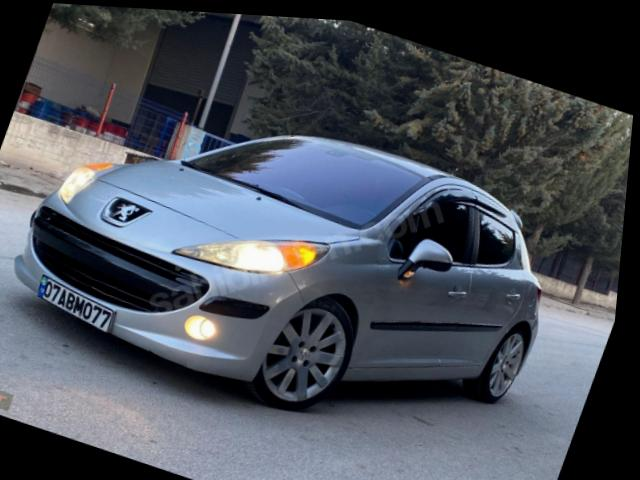plaka: (38, 274, 113, 331)
